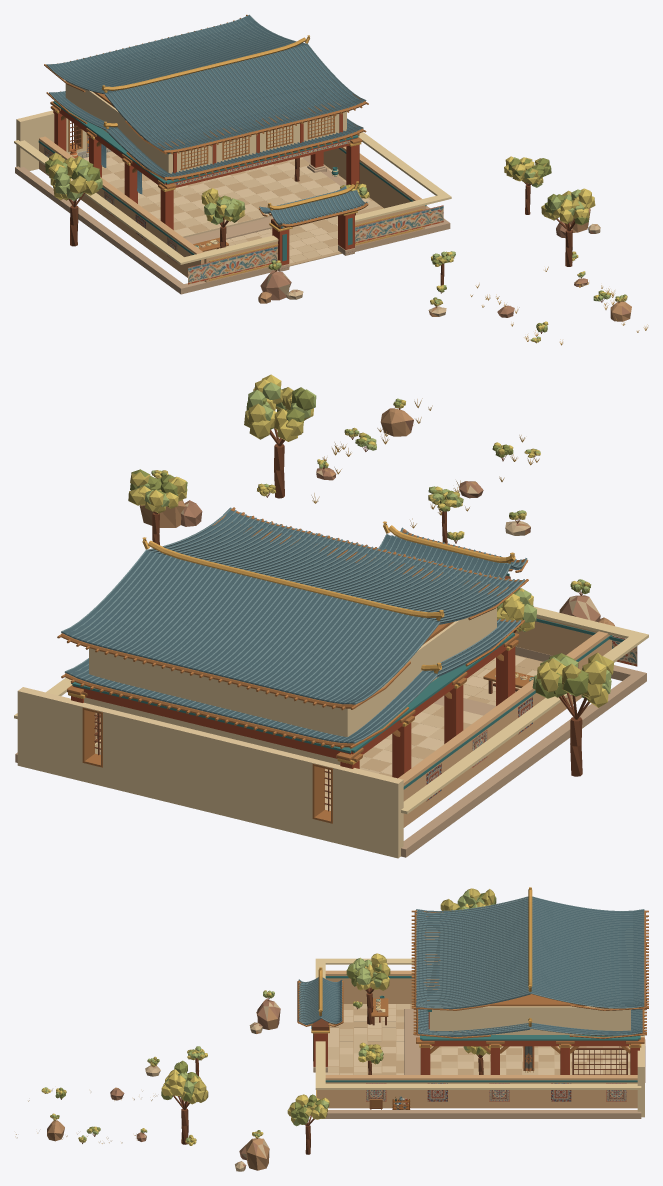
The model's file is courtyard.glb.
3 views of the same model, one above another, from view 1: azimuth 30°, elevation 25°; view 2: azimuth 150°, elevation 25°; view 3: azimuth 270°, elevation 25° (orthographic). The views are drawn at different scales.
Parts seen in each view (by area): view 1: hall-v003-upper-roof, courtyard-side-wall, hall-v003-paving-c, hall-v003-paving-b, hall-v003-upper-wall-front, hall-v003-paving-a, courtyard-paving, entrance-roof, courtyard-side-wall-001, courtyard-v005-side-plinth-west, tree-court-outer-west-canopy, hall-v003-upper-wall-left (+24 smaller); view 2: hall-v003-upper-roof, courtyard-square-rear-pier-1, hall-v003-upper-wall-rear, courtyard-side-wall, courtyard-square-rear-pier-0, courtyard-square-rear-pier-2, courtyard-v005-side-plinth-west, hall-v003-upper-wall-left, hall-v003-lower-eave-rear, tree-road-east-canopy, hall-v003-lower-eave-left, entrance-roof (+22 smaller); view 3: hall-v003-upper-roof, courtyard-side-wall-001, hall-v003-upper-wall-right, courtyard-paving, courtyard-v005-side-plinth-east, courtyard-v005-side-coping-east, entrance-roof, hall-v003-lower-eave-right, hall-v003-paving-c, courtyard-side-wall, hall-v003-paving-a, hall-v003-paving-b (+16 smaller).
Boxes of the visible parts, box(x1,y1,x2,y2) form: hall-v003-upper-roof: box(44, 14, 368, 154); courtyard-side-wall: box(39, 136, 204, 281); hall-v003-paving-c: box(83, 157, 340, 236); hall-v003-paving-b: box(102, 154, 335, 232); hall-v003-upper-wall-front: box(170, 112, 345, 173); hall-v003-paving-a: box(102, 151, 332, 229); courtyard-paving: box(203, 158, 381, 263); entrance-roof: box(259, 181, 368, 227); courtyard-side-wall-001: box(323, 146, 426, 227); courtyard-v005-side-plinth-west: box(15, 166, 183, 294); tree-court-outer-west-canopy: box(45, 152, 102, 200); hall-v003-upper-wall-left: box(65, 81, 170, 172); hall-v003-upper-roof: box(57, 507, 528, 710); courtyard-square-rear-pier-1: box(101, 708, 318, 837); hall-v003-upper-wall-rear: box(91, 649, 345, 736); courtyard-side-wall: box(398, 631, 611, 827); courtyard-square-rear-pier-0: box(331, 764, 403, 858); courtyard-square-rear-pier-2: box(17, 687, 88, 781); courtyard-v005-side-plinth-west: box(401, 673, 646, 857); hall-v003-upper-wall-left: box(342, 606, 496, 736); hall-v003-lower-eave-rear: box(80, 675, 344, 747); tree-road-east-canopy: box(244, 374, 316, 441); hall-v003-lower-eave-left: box(335, 619, 524, 748); entrance-roof: box(378, 521, 528, 578); hall-v003-upper-roof: box(411, 887, 648, 1010); courtyard-side-wall-001: box(320, 1075, 637, 1108); hall-v003-upper-wall-right: box(429, 1006, 630, 1034); courtyard-paving: box(325, 1004, 413, 1074); courtyard-v005-side-plinth-east: box(323, 1110, 641, 1118); courtyard-v005-side-coping-east: box(315, 1083, 641, 1089); entrance-roof: box(297, 967, 343, 1026); hall-v003-lower-eave-right: box(413, 1018, 646, 1038); hall-v003-paving-c: box(430, 1046, 630, 1074); courtyard-side-wall: box(325, 970, 414, 1003); hall-v003-paving-a: box(430, 1046, 630, 1074); hall-v003-paving-b: box(430, 1046, 630, 1074).
Bounding box in the file's own units: 39.52 × 10.63 × 51.48.
55 materials, 26 textured.
